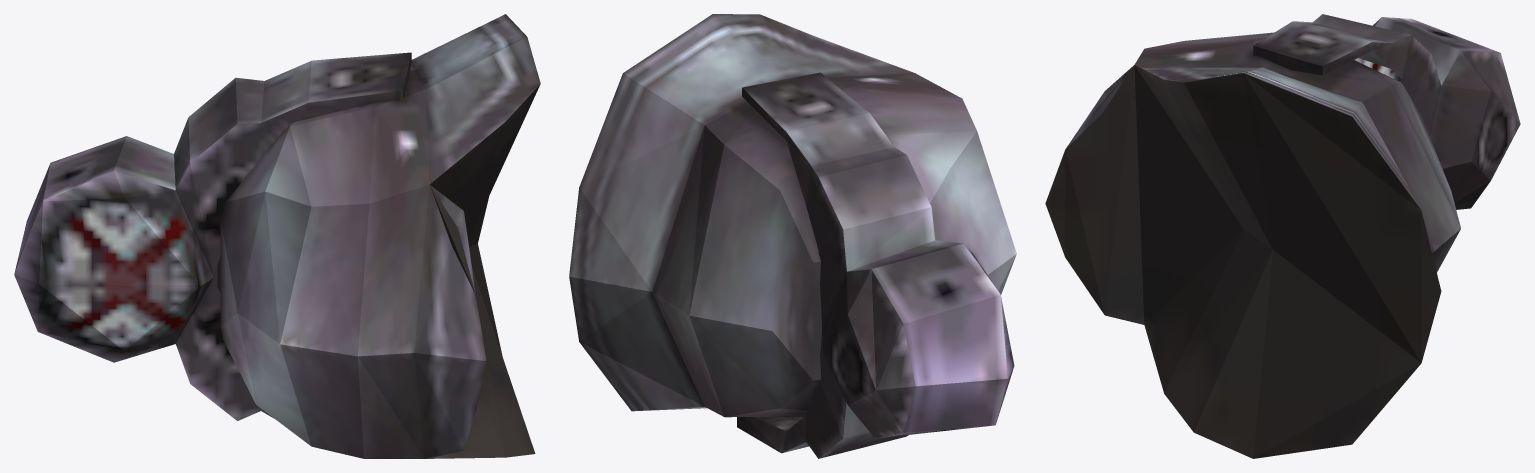
The model's file is UGHELMET.obj.
The picture shows the model from 3 angles, left to right: view 1: azimuth 30°, elevation 25°; view 2: azimuth 150°, elevation 25°; view 3: azimuth 270°, elevation 25°; orthographic projection. The views are drawn at different scales.
Visible parts, largest first — view 1: Node 0; view 2: Node 0; view 3: Node 0.
Part boxes in pixels (bbox=[...]): Node 0: bbox=[14, 14, 540, 458]; Node 0: bbox=[569, 14, 1016, 458]; Node 0: bbox=[1045, 14, 1520, 458].
Bounding box in the file's own units: 0.5 × 0.43 × 0.48.
1 material, 1 textured.
